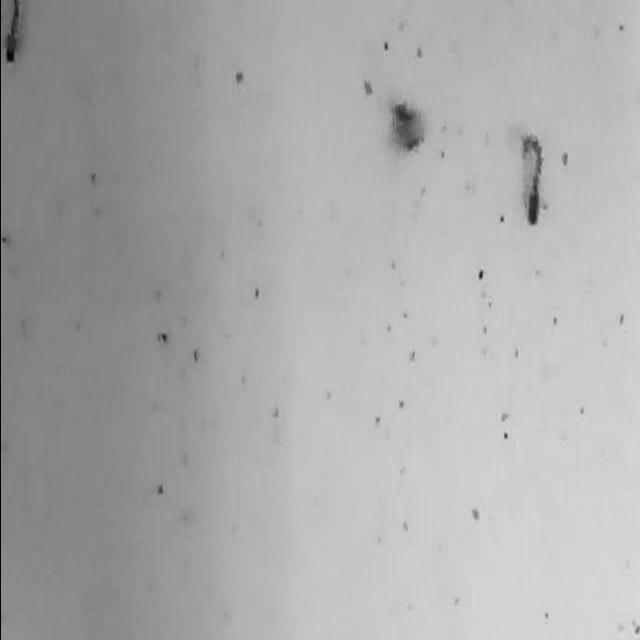larvas: (520, 132, 541, 226), (392, 100, 426, 148), (4, 14, 20, 62)
